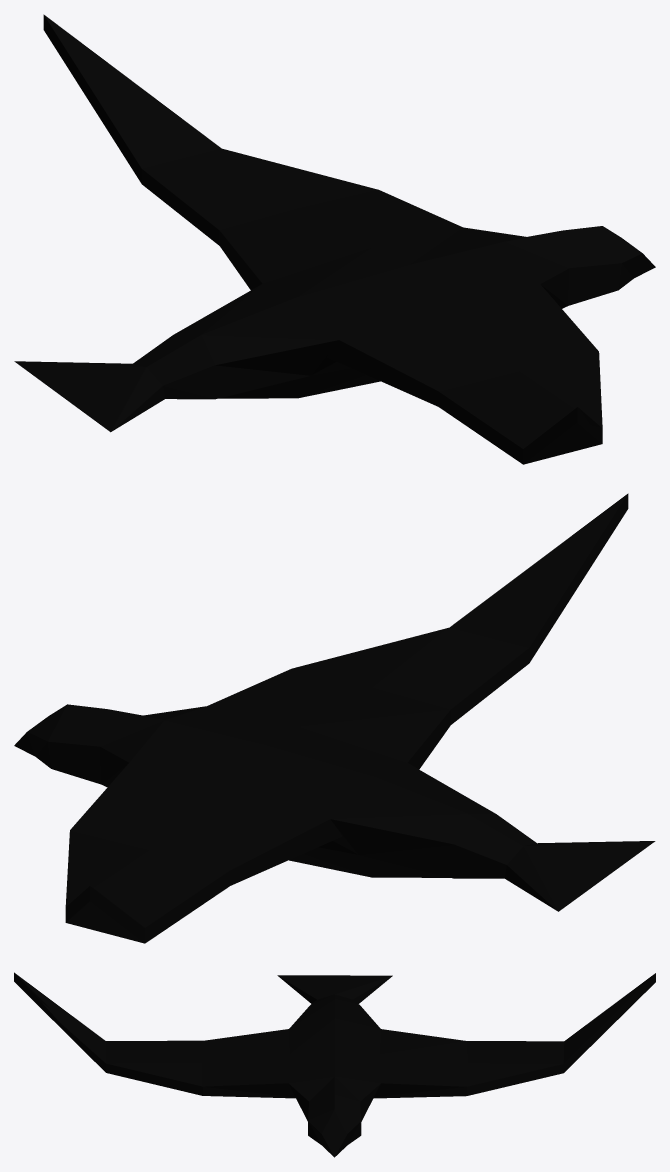
File: bird-new.glb
The picture shows the model from 3 angles, top to bottom: view 1: azimuth 30°, elevation 25°; view 2: azimuth 150°, elevation 25°; view 3: azimuth 270°, elevation 25°; orthographic projection. The views are drawn at different scales.
Visible parts, largest first — view 1: Plane; view 2: Plane; view 3: Plane.
Boxes of the visible parts, x1,y1,x2,y2 form: Plane: (14,14,655,464); Plane: (14,493,655,943); Plane: (14,972,655,1157).
Size of the model in its own units: 239 by 72.87 by 374.
Materials: 1 (1 with a texture image).
